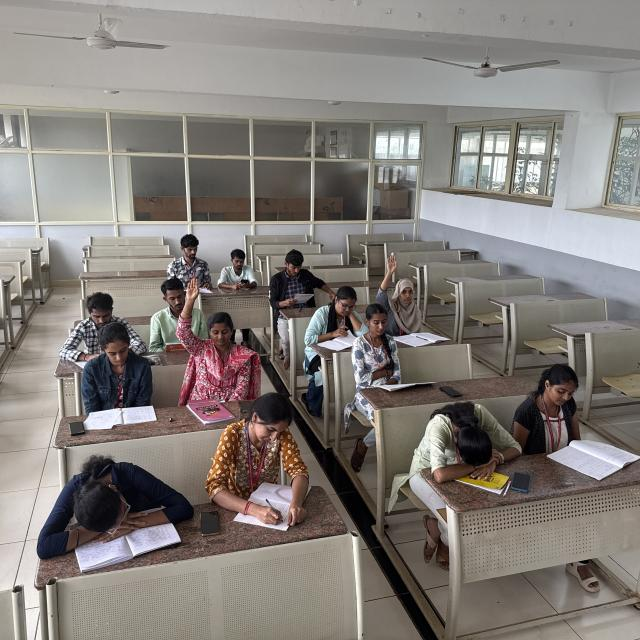Hand Rising: (175, 273, 259, 399), (372, 240, 438, 330)
Reading: (510, 359, 617, 461), (75, 320, 159, 427), (352, 302, 413, 398), (256, 240, 326, 322), (133, 272, 192, 352)
Sleeping: (33, 445, 189, 552), (406, 394, 532, 478)
Using Phone: (217, 238, 263, 294)
Writing: (209, 402, 310, 526)
